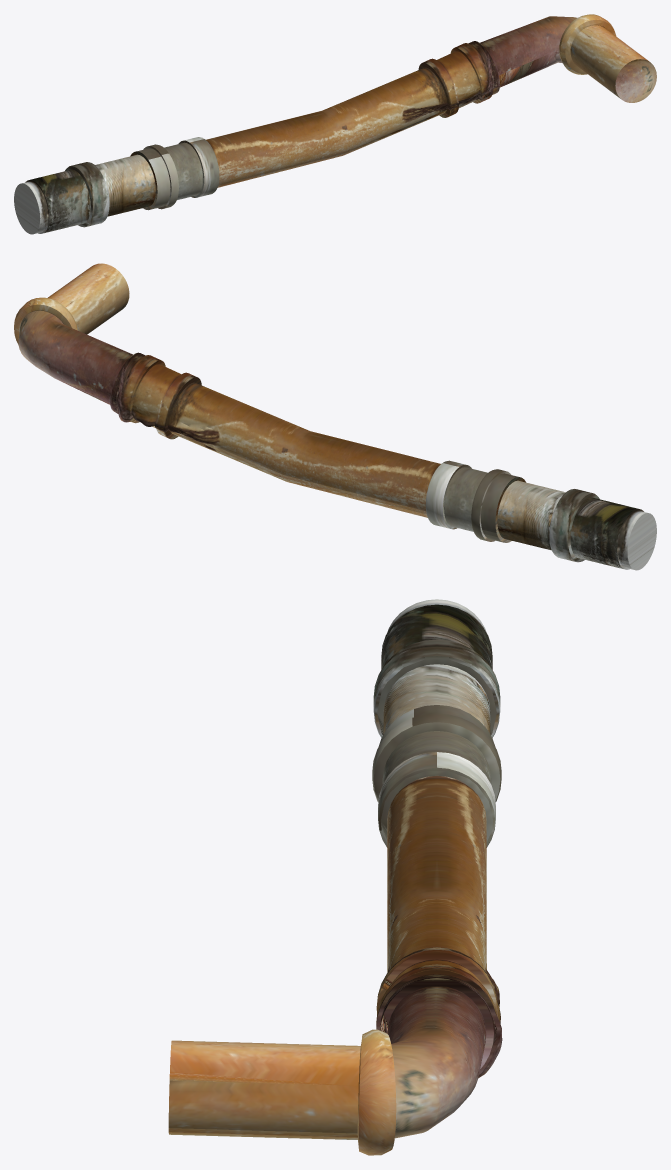
File: SHORT S. METAL 2.fbx
The picture shows the model from 3 angles, top to bottom: view 1: azimuth 30°, elevation 25°; view 2: azimuth 150°, elevation 25°; view 3: azimuth 270°, elevation 25°; orthographic projection. The views are drawn at different scales.
Visible parts, largest first — view 1: SHORT S. METAL 2.001; view 2: SHORT S. METAL 2.001; view 3: SHORT S. METAL 2.001.
Part boxes in pixels (box(x1,y1,x2,y2)): SHORT S. METAL 2.001: box(14, 14, 656, 234); SHORT S. METAL 2.001: box(14, 263, 656, 570); SHORT S. METAL 2.001: box(168, 599, 502, 1155).
Size of the model in its own units: 8.92 by 1.5 by 2.25.
